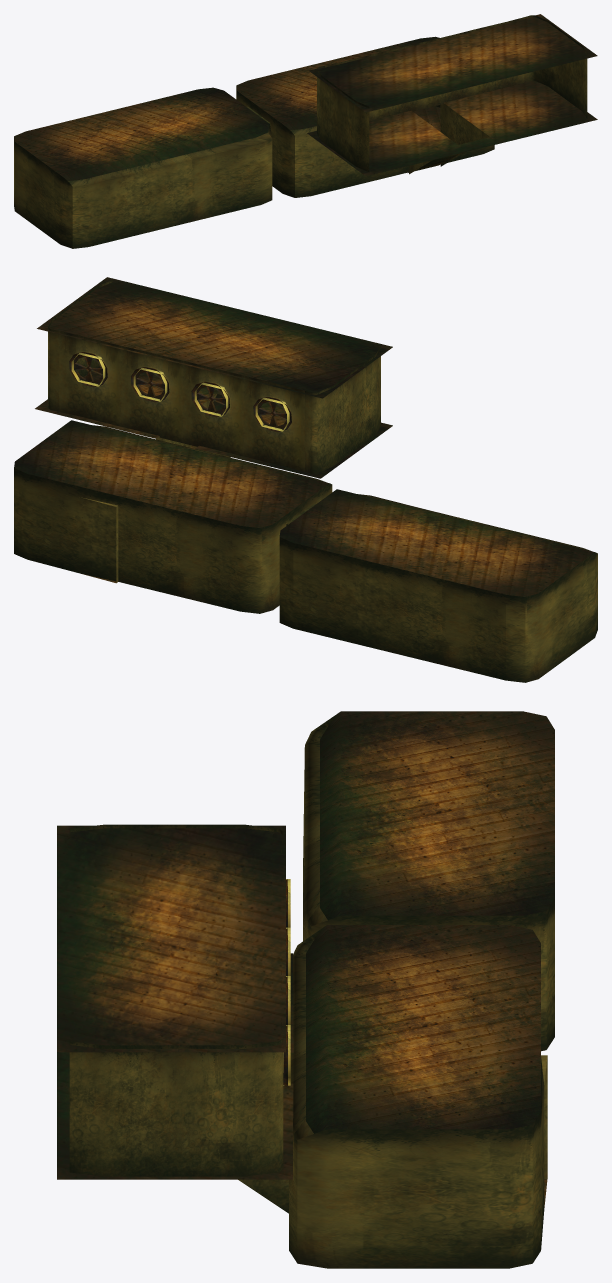
The model's file is CasaInteriorNaranja.fbx.
3 renders of one model, top to bottom at view 1: azimuth 30°, elevation 25°; view 2: azimuth 150°, elevation 25°; view 3: azimuth 270°, elevation 25°, orthographic. The views are drawn at different scales.
Visible parts, largest first — view 1: polySurface3, polySurface11, polySurface19, polySurface10, polySurface14; view 2: polySurface3, polySurface10, polySurface11, polySurface19, polySurface14, polySurface12, polySurface20; view 3: polySurface3, polySurface11, polySurface14, polySurface10, polySurface19.
Boxes of the visible parts, x1,y1,x2,y2 form: polySurface3: (14,36,494,248); polySurface11: (309,14,597,112); polySurface19: (307,81,597,176); polySurface10: (317,16,561,171); polySurface14: (524,15,587,118); polySurface3: (14,420,597,682); polySurface10: (48,327,380,473); polySurface11: (37,277,392,398); polySurface19: (35,366,392,478); polySurface14: (48,280,112,411); polySurface12: (131,367,169,402); polySurface20: (69,352,107,387); polySurface3: (289,711,554,1268); polySurface11: (57,825,285,1052); polySurface14: (69,1033,283,1176); polySurface10: (69,824,290,1175); polySurface19: (57,953,293,1213).
Size of the model in its own units: 10.11 by 2.72 by 4.67.
2 materials, 2 textured.
